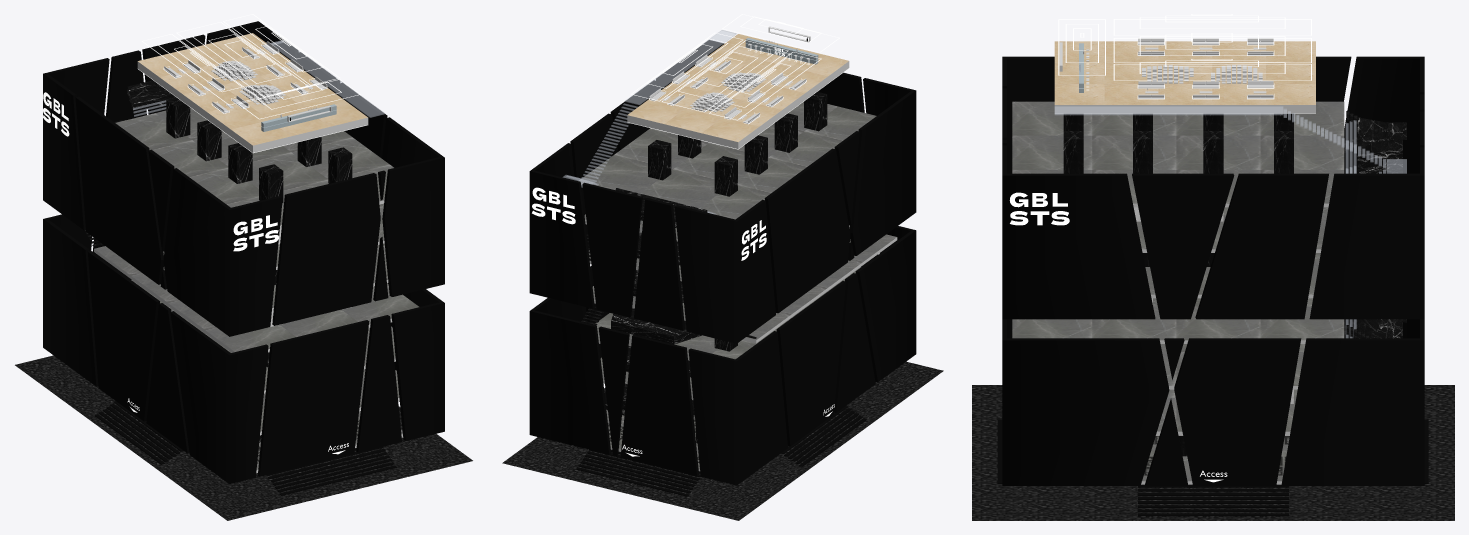
The model's file is Edificio_7p.glb.
The picture shows the model from 3 angles, left to right: view 1: azimuth 30°, elevation 25°; view 2: azimuth 150°, elevation 25°; view 3: azimuth 270°, elevation 25°; orthographic projection. The views are drawn at different scales.
Visible parts, largest first — view 1: LOU_7_SLICED, TODOS_LOS_MARMOLES, PIEDRAS_NEGRAS_DEL_PISO, PISO_HEAVEN.002, PILARES_PB, Escalinata_3.004, 4_PIRAMIDES_NEON.001, TODOS_LOS_PISOS, Escalinata_2.010, FUENTE_B_MENOR.001, SOFA_MINIMAL, oficina_T.001 (+2 smaller); view 2: LOU_7_SLICED, TODOS_LOS_MARMOLES, PIEDRAS_NEGRAS_DEL_PISO, PISO_HEAVEN.002, PILARES_PB, Escalinata_3.004, 4_PIRAMIDES_NEON.001, Escalinata_2.010, TODOS_LOS_PISOS, oficina_T.006, FUENTE_B_MENOR.001, SOFA_MINIMAL (+2 smaller); view 3: LOU_7_SLICED, TODOS_LOS_MARMOLES, PIEDRAS_NEGRAS_DEL_PISO, PISO_HEAVEN.002, PILARES_PB, Escalinata_3.004, 4_PIRAMIDES_NEON.001, Escalinata_2.010, TODOS_LOS_PISOS, oficina_T.001, SOFA_MINIMAL, FUENTE_B_MENOR.001 (+5 smaller).
Part boxes in pixels (x1,y1,x2,y2): LOU_7_SLICED: (43, 21, 444, 483); TODOS_LOS_MARMOLES: (94, 108, 418, 431); PIEDRAS_NEGRAS_DEL_PISO: (15, 355, 472, 520); PISO_HEAVEN.002: (138, 33, 367, 145); PILARES_PB: (166, 97, 352, 442); Escalinata_3.004: (94, 401, 396, 495); 4_PIRAMIDES_NEON.001: (142, 14, 360, 119); TODOS_LOS_PISOS: (94, 61, 399, 445); Escalinata_2.010: (271, 40, 384, 117); FUENTE_B_MENOR.001: (211, 60, 285, 105); SOFA_MINIMAL: (164, 41, 327, 113); oficina_T.001: (127, 80, 176, 112); LOU_7_SLICED: (529, 40, 916, 485); TODOS_LOS_MARMOLES: (579, 102, 896, 399); PIEDRAS_NEGRAS_DEL_PISO: (502, 361, 943, 520); PISO_HEAVEN.002: (627, 34, 848, 141); PILARES_PB: (648, 92, 827, 443); Escalinata_3.004: (576, 392, 866, 496); 4_PIRAMIDES_NEON.001: (631, 14, 839, 120); Escalinata_2.010: (563, 30, 736, 187); TODOS_LOS_PISOS: (579, 61, 897, 469); oficina_T.006: (611, 308, 701, 344); FUENTE_B_MENOR.001: (690, 72, 766, 112); SOFA_MINIMAL: (649, 54, 806, 123); LOU_7_SLICED: (1002, 56, 1424, 485); TODOS_LOS_MARMOLES: (1012, 101, 1344, 431); PIEDRAS_NEGRAS_DEL_PISO: (972, 385, 1454, 520); PISO_HEAVEN.002: (1054, 41, 1315, 104); PILARES_PB: (1063, 113, 1293, 456); Escalinata_3.004: (997, 419, 1428, 516); 4_PIRAMIDES_NEON.001: (1058, 14, 1311, 80); Escalinata_2.010: (1054, 106, 1406, 173); TODOS_LOS_PISOS: (1054, 105, 1328, 484); oficina_T.001: (1357, 117, 1402, 173); SOFA_MINIMAL: (1138, 38, 1273, 98); FUENTE_B_MENOR.001: (1142, 65, 1262, 83).
Size of what is drawn, in the model's own units: 32 by 45.68 by 48.
15 materials, 9 textured.
